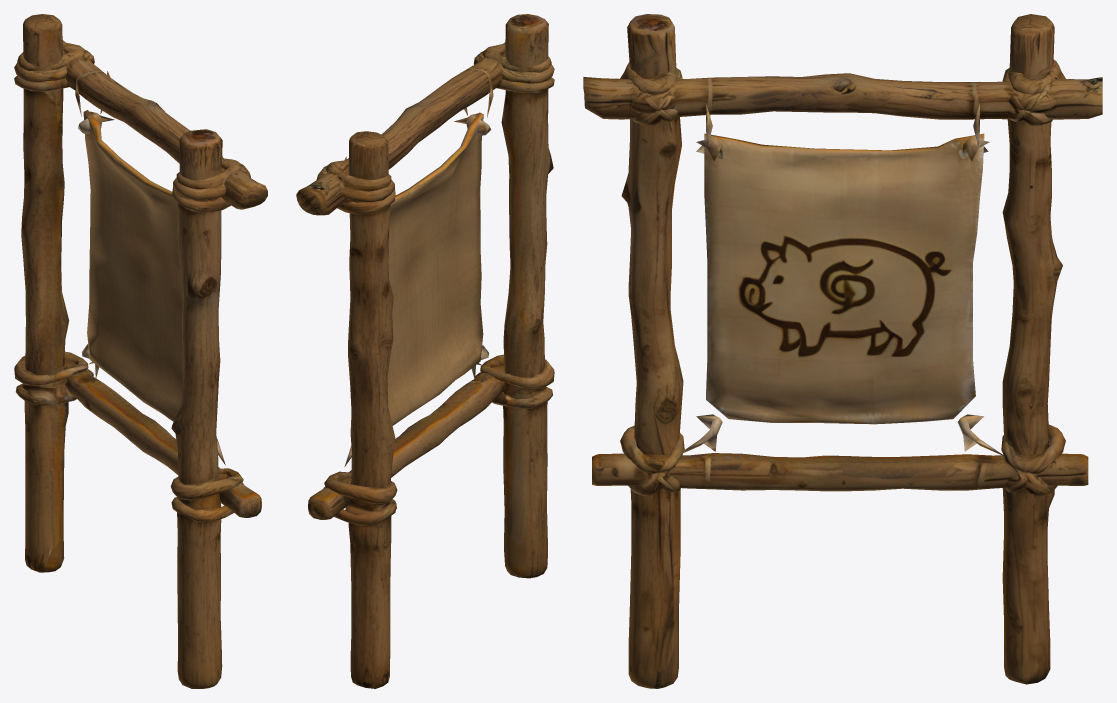
The model's file is runch_paizi.fbx.
3 views of the same model, side by side, from view 1: azimuth 30°, elevation 25°; view 2: azimuth 150°, elevation 25°; view 3: azimuth 270°, elevation 25° (orthographic). The views are drawn at different scales.
Visible parts, largest first — view 1: tripo_node_5e516fa5; view 2: tripo_node_5e516fa5; view 3: tripo_node_5e516fa5.
Boxes of the visible parts, left/top/right/bottom form: tripo_node_5e516fa5: left=14, top=14, right=267, bottom=688; tripo_node_5e516fa5: left=296, top=14, right=554, bottom=688; tripo_node_5e516fa5: left=583, top=14, right=1102, bottom=688.
Size of the model in its own units: 25.48 by 178 by 127.
1 material, 1 textured.
